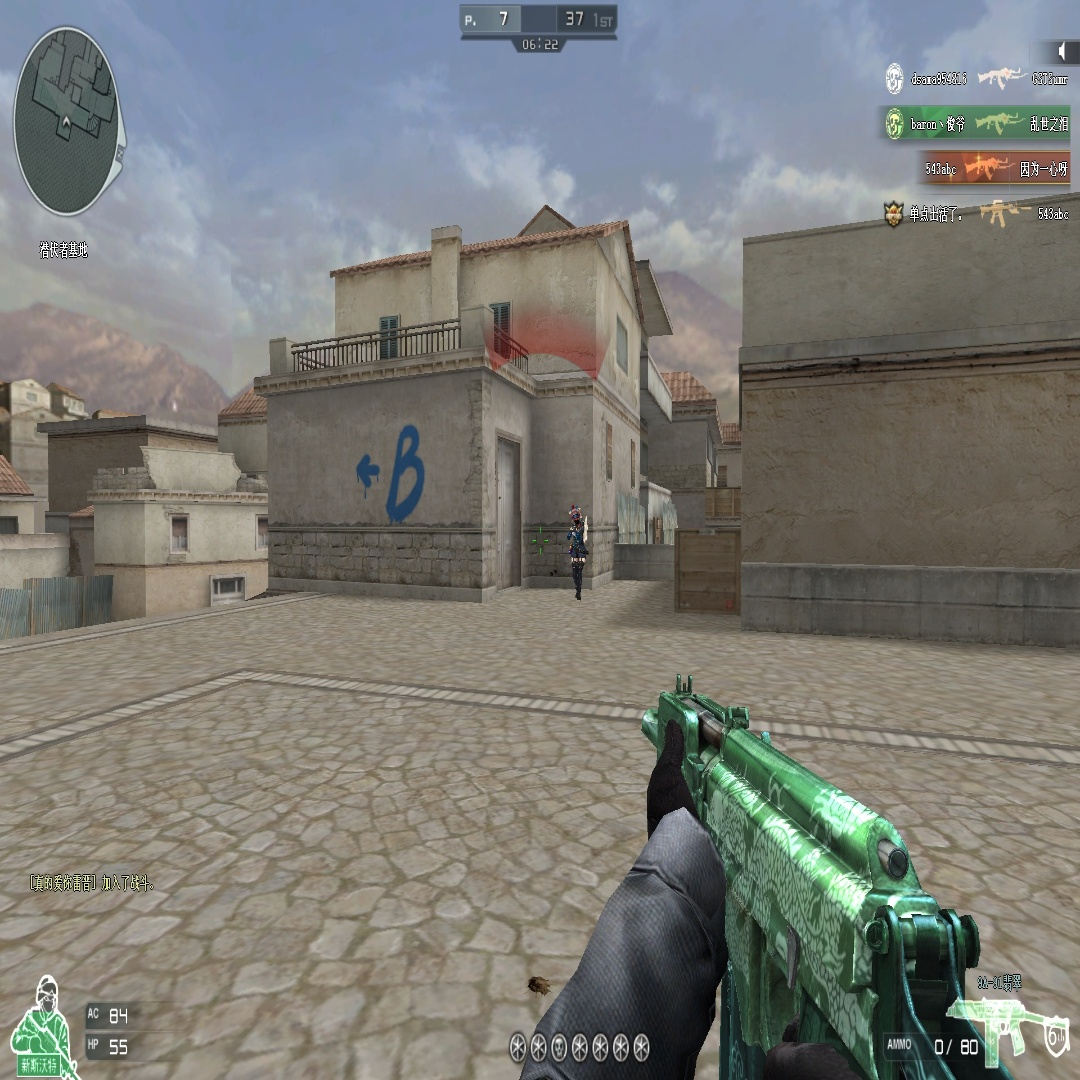p: (568, 503, 588, 599)
